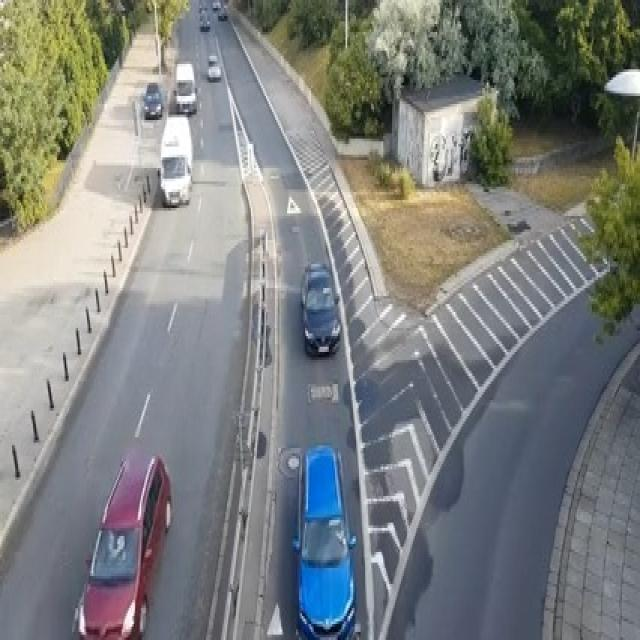bus: (160, 112, 192, 205)
car: (72, 443, 173, 637), (292, 443, 356, 637), (299, 261, 341, 355), (173, 61, 197, 115), (143, 80, 162, 117), (206, 53, 221, 80), (198, 11, 210, 29), (216, 2, 227, 18), (212, 0, 219, 11)
